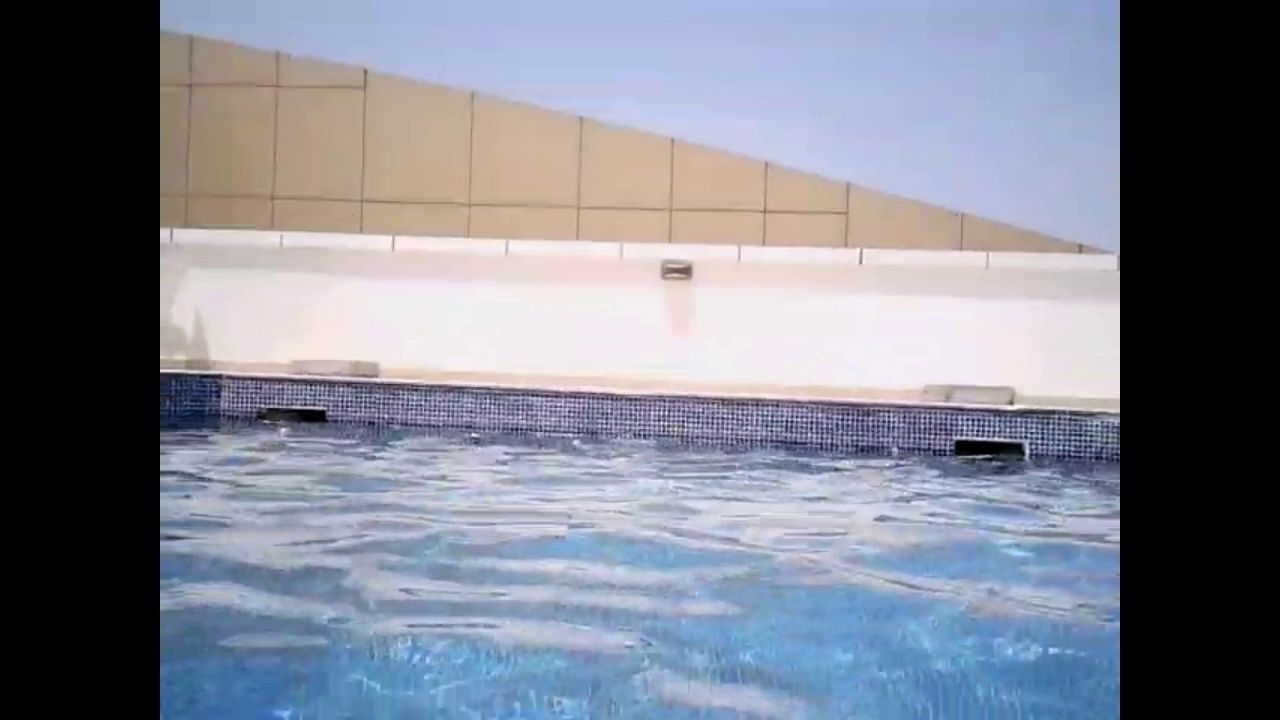debris: (466, 428, 486, 445), (566, 436, 584, 451), (277, 424, 294, 439), (889, 445, 899, 456)
